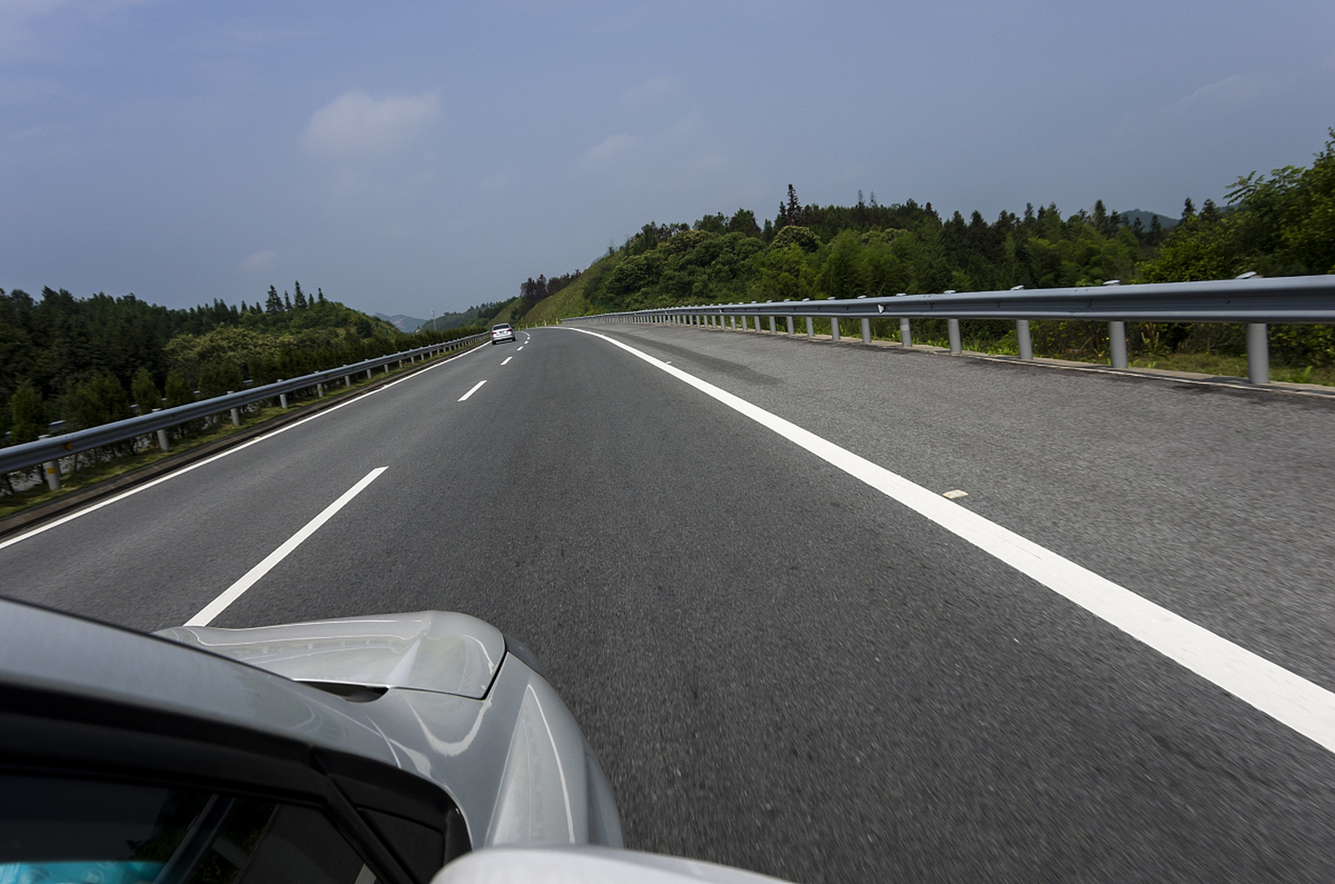lane: (550, 323, 1335, 758), (198, 461, 386, 624), (460, 378, 489, 397), (518, 332, 531, 354), (499, 346, 509, 367)
